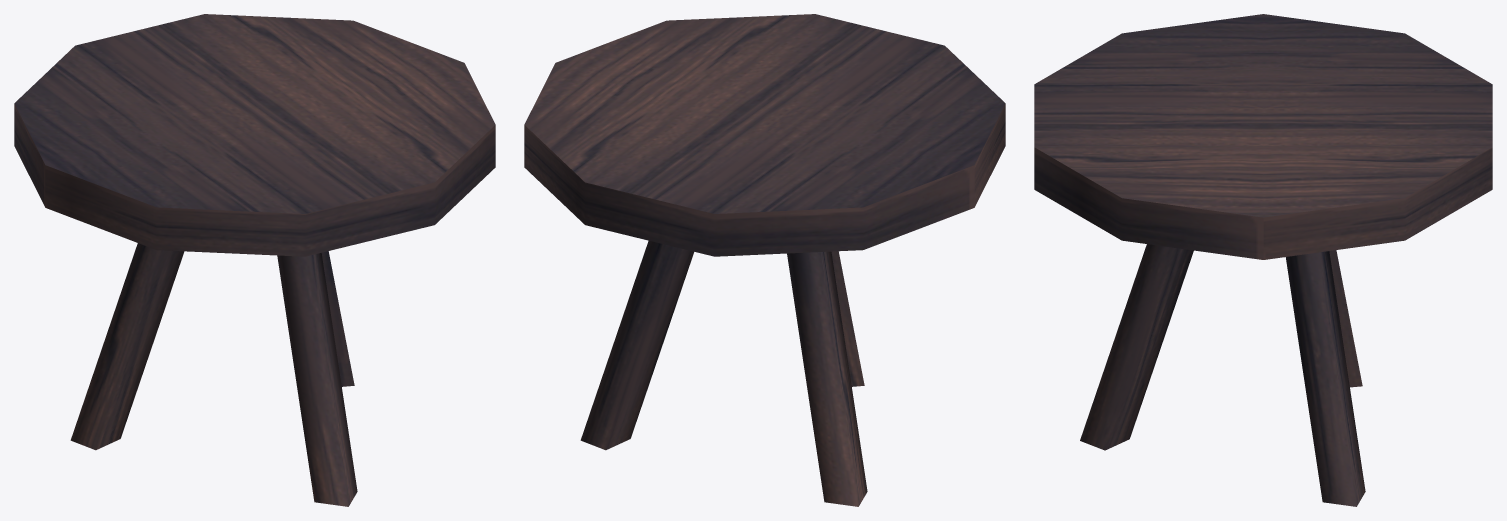
The model's file is Round_table_A.fbx.
3 views of the same model, side by side, from view 1: azimuth 30°, elevation 25°; view 2: azimuth 150°, elevation 25°; view 3: azimuth 270°, elevation 25° (orthographic).
Parts seen in each view (by area): view 1: Round_table_A; view 2: Round_table_A; view 3: Round_table_A.
Part boxes in pixels (bbox=[...]): Round_table_A: bbox=[14, 14, 495, 506]; Round_table_A: bbox=[524, 14, 1005, 506]; Round_table_A: bbox=[1034, 14, 1492, 506].
Size of the model in its own units: 0.2939 by 0.2183 by 0.2795.
